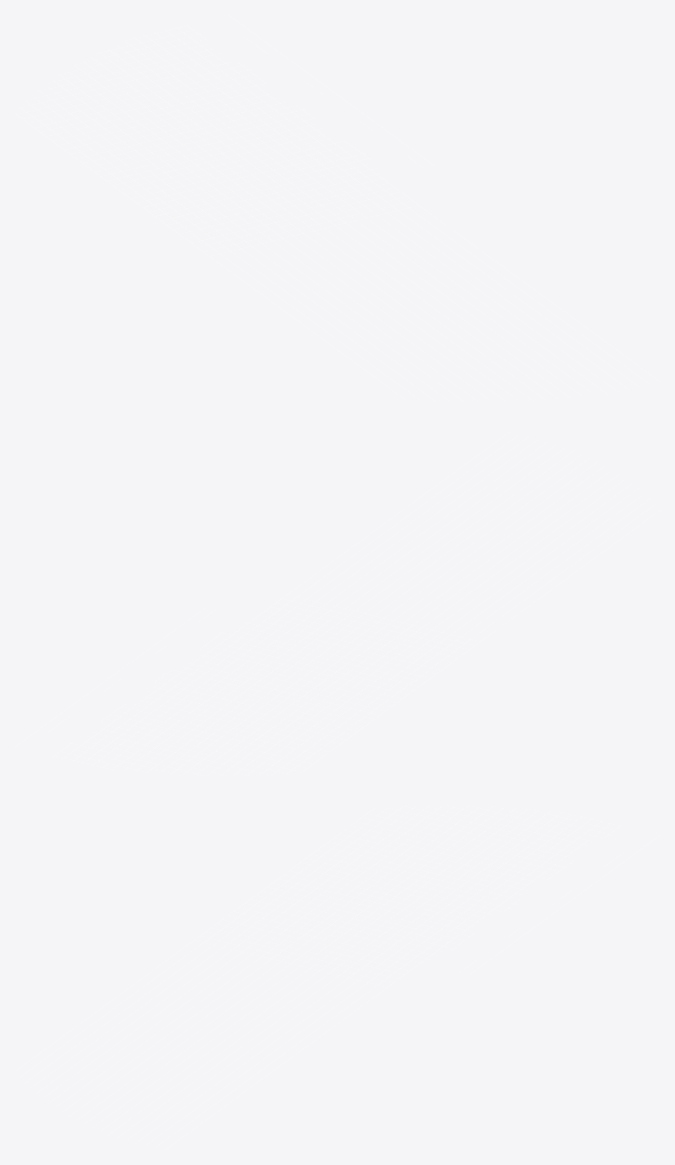
Rendered from SM_RiyadhNights_Far_Streets_3.fbx.
The picture shows the model from 3 angles, top to bottom: view 1: azimuth 30°, elevation 25°; view 2: azimuth 150°, elevation 25°; view 3: azimuth 330°, elevation 25°; orthographic projection. The views are drawn at different scales.
Parts seen in each view (by area): view 1: SM_RiyadhNights_Far_Streets_3; view 2: SM_RiyadhNights_Far_Streets_3; view 3: SM_RiyadhNights_Far_Streets_3.
Boxes of the visible parts, left/top/right/bottom form: SM_RiyadhNights_Far_Streets_3: left=14, top=15, right=656, bottom=402; SM_RiyadhNights_Far_Streets_3: left=14, top=434, right=654, bottom=775; SM_RiyadhNights_Far_Streets_3: left=15, top=806, right=659, bottom=1148.
Size of the model in its own units: 450280 by 1710 by 1446000.
